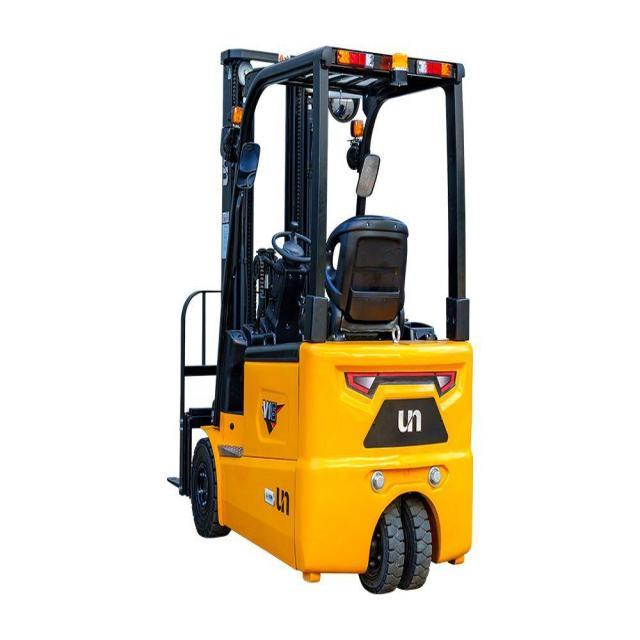forklift: (157, 7, 482, 596)
